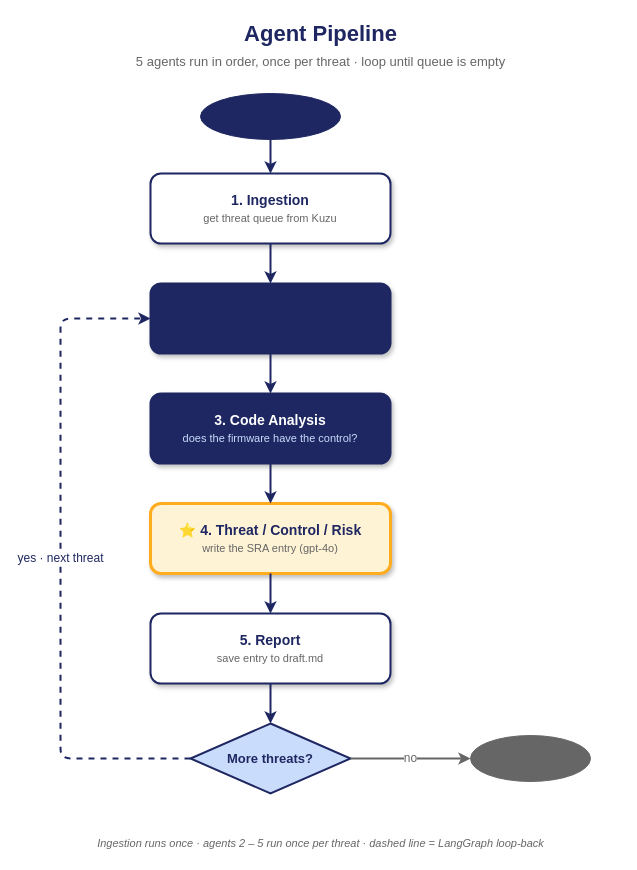
The diagram is 637 pixels wide and 870 high, and some of its shapes have lost their labels. The centre of each missing label's shape, as x and y in pixels:
2. Compliance Mapper which FDA / IEC clauses apply: point (271, 319)
END: point (530, 758)
START: point (270, 116)
